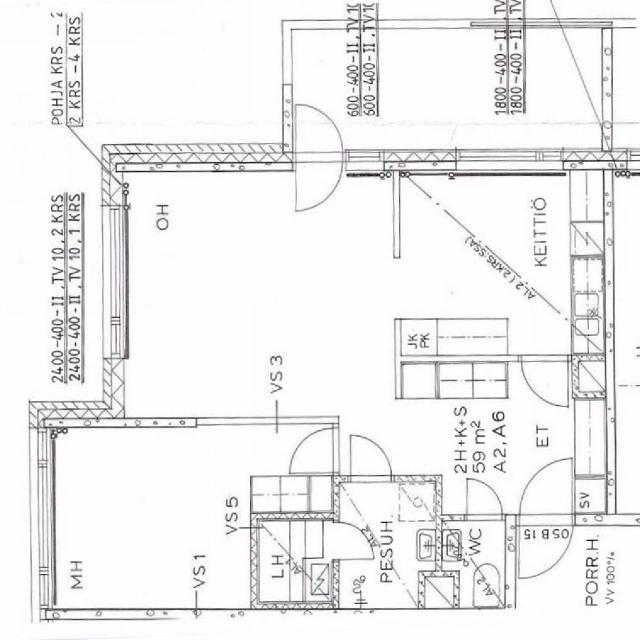door: (519, 514, 572, 582), (519, 458, 572, 526), (296, 98, 342, 171), (296, 148, 342, 220), (521, 353, 568, 412), (291, 428, 339, 472), (350, 432, 391, 482), (331, 523, 374, 560), (467, 476, 502, 521)
